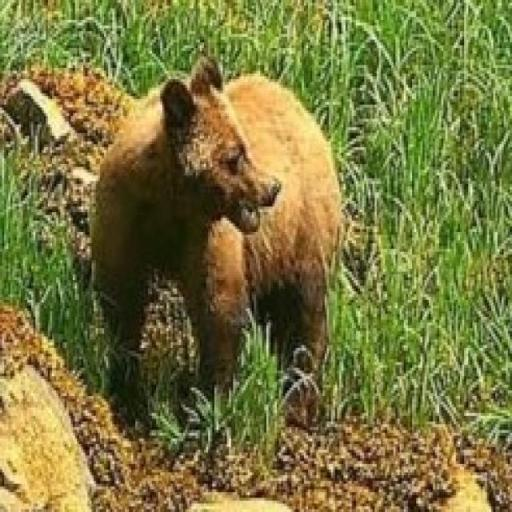Bear: (88, 51, 344, 421)
